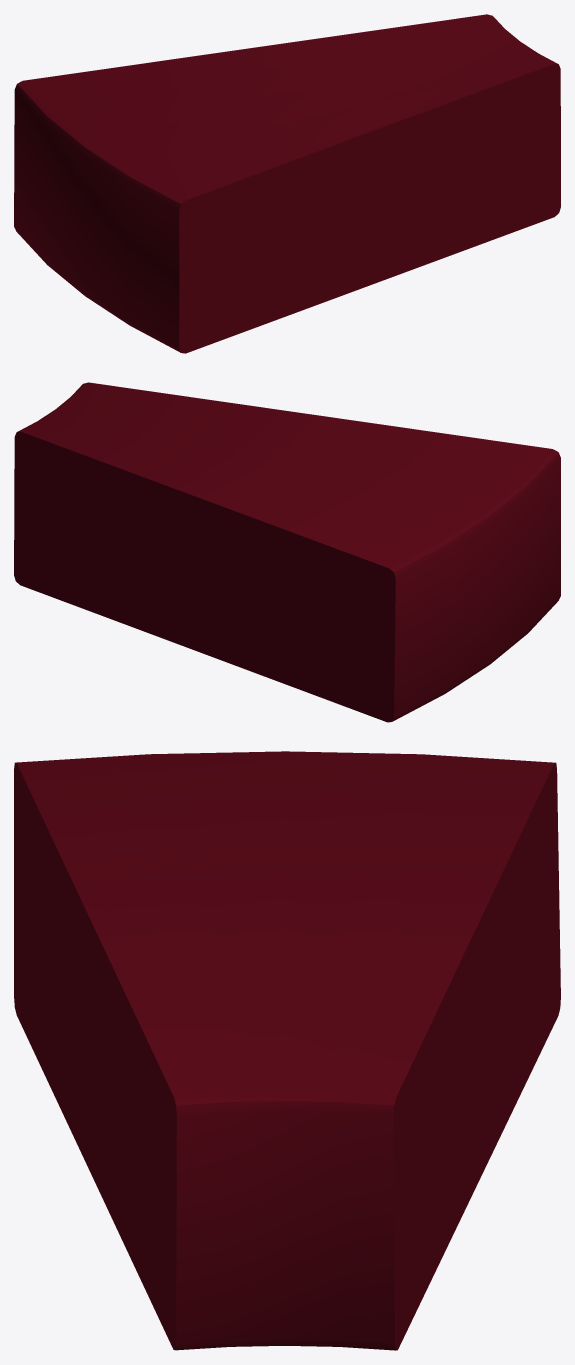
3 views of the same model, one above another, from view 1: azimuth 30°, elevation 25°; view 2: azimuth 150°, elevation 25°; view 3: azimuth 270°, elevation 25° (orthographic). The views are drawn at different scales.
Parts seen in each view (by area): view 1: Low; view 2: Low; view 3: Low.
Boxes of the visible parts, x1=… form: Low: x1=14, y1=14, x2=560, y2=353; Low: x1=14, y1=382, x2=560, y2=722; Low: x1=14, y1=751, x2=560, y2=1350.
Size of what is drawn, in the model's own units: 60.8 by 20.01 by 39.3.
